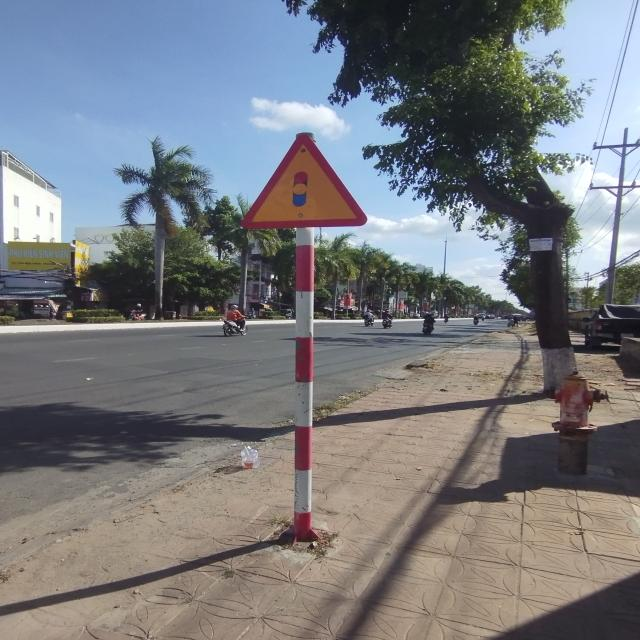Duong_Co_Go_Giam_Toc: (238, 130, 368, 232)
